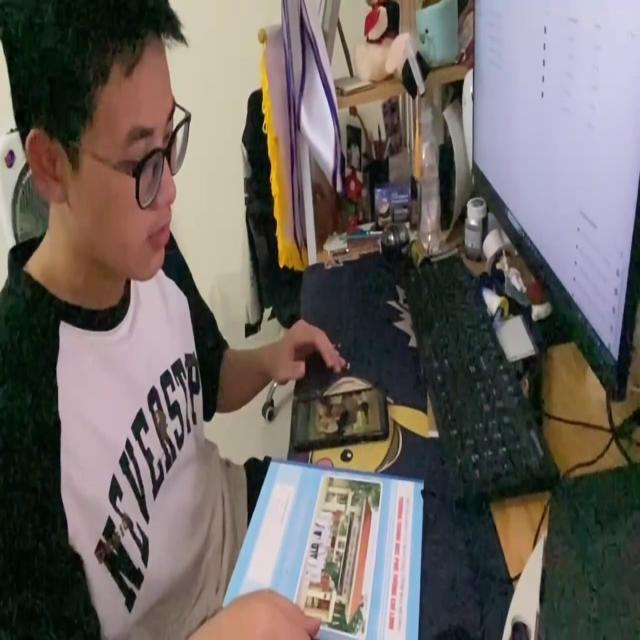book: (228, 457, 427, 640)
laptop: (471, 0, 640, 405)
phone: (286, 381, 392, 449)
student: (1, 0, 347, 640)
